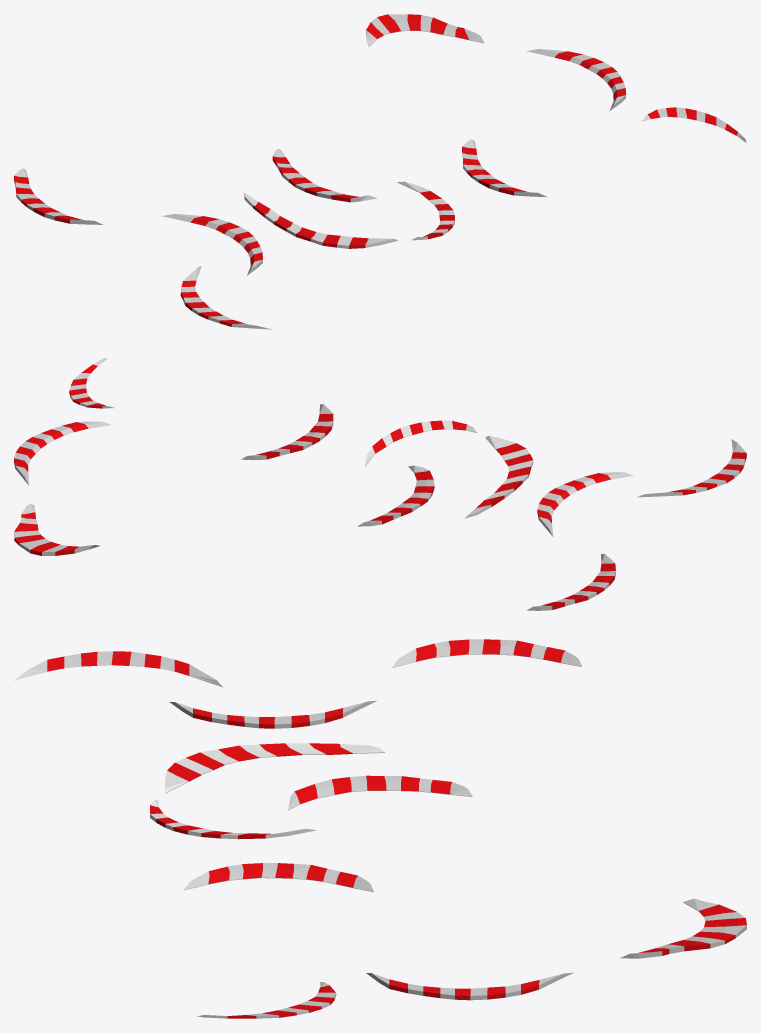
Rendered from barrera1.fbx.
3 views of the same model, one above another, from view 1: azimuth 30°, elevation 25°; view 2: azimuth 150°, elevation 25°; view 3: azimuth 270°, elevation 25° (orthographic). The views are drawn at different scales.
Visible parts, largest first — view 1: Cubo.018, Cubo.014, Cubo.011, Cubo.017, Cubo.007, Cubo.010, Cubo.013, Cubo.015, Cubo.002, Cubo.016; view 2: Cubo.014, Cubo.018, Cubo.017, Cubo.011, Cubo.007, Cubo.010, Cubo.013, Cubo.015, Cubo.002, Cubo.016; view 3: Cubo.014, Cubo.007, Cubo.015, Cubo.013, Cubo.018, Cubo.010, Cubo.017, Cubo.011, Cubo.002, Cubo.016.
Part boxes in pixels (box(x1,y1,x2,y2)): Cubo.018: box(366, 14, 484, 46); Cubo.014: box(243, 192, 398, 248); Cubo.011: box(162, 213, 262, 275); Cubo.017: box(526, 49, 625, 111); Cubo.007: box(272, 149, 376, 202); Cubo.010: box(180, 266, 271, 329); Cubo.013: box(14, 168, 102, 224); Cubo.015: box(462, 139, 546, 197); Cubo.002: box(397, 181, 454, 240); Cubo.016: box(642, 107, 746, 142); Cubo.014: box(464, 435, 533, 518); Cubo.018: box(14, 504, 100, 555); Cubo.017: box(14, 421, 110, 485); Cubo.011: box(537, 472, 633, 536); Cubo.007: box(357, 465, 434, 526); Cubo.010: box(637, 439, 746, 497); Cubo.013: box(527, 554, 615, 610); Cubo.015: box(241, 404, 333, 460); Cubo.002: box(365, 420, 476, 466); Cubo.016: box(69, 358, 115, 408); Cubo.014: box(165, 743, 384, 793); Cubo.007: box(287, 775, 472, 810); Cubo.015: box(184, 863, 373, 891); Cubo.013: box(392, 639, 582, 667); Cubo.018: box(620, 898, 746, 958); Cubo.010: box(14, 651, 222, 687); Cubo.017: box(366, 972, 573, 1000); Cubo.011: box(169, 700, 376, 728); Cubo.002: box(150, 799, 316, 839); Cubo.016: box(197, 982, 336, 1018).
Size of the model in its own units: 24548 by 157 by 20275.
